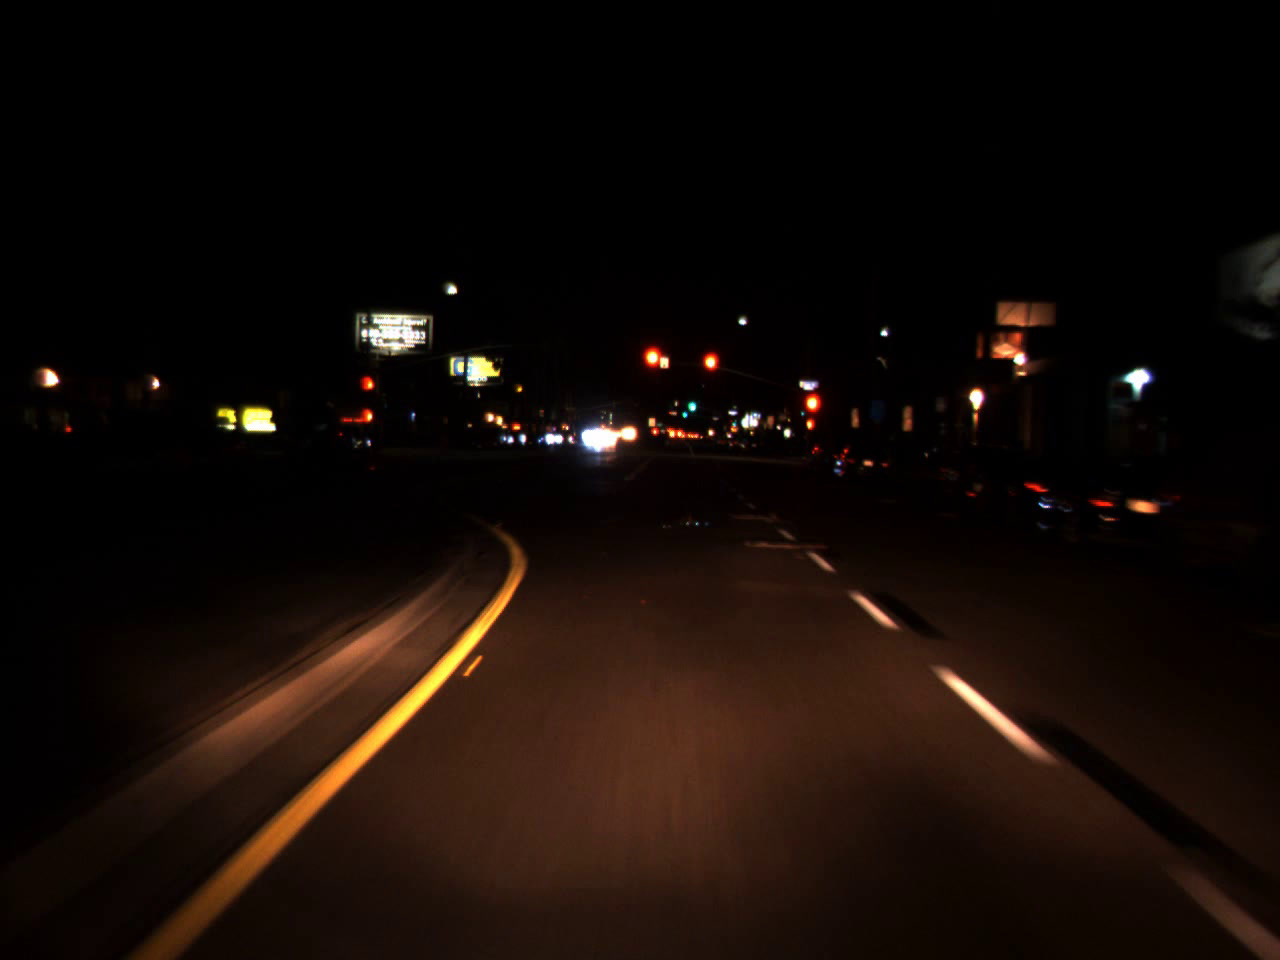go: (687, 391, 697, 415), (681, 407, 688, 419), (730, 414, 737, 426)
stop: (640, 343, 665, 391), (802, 389, 823, 437), (700, 350, 719, 393), (358, 372, 377, 409)
